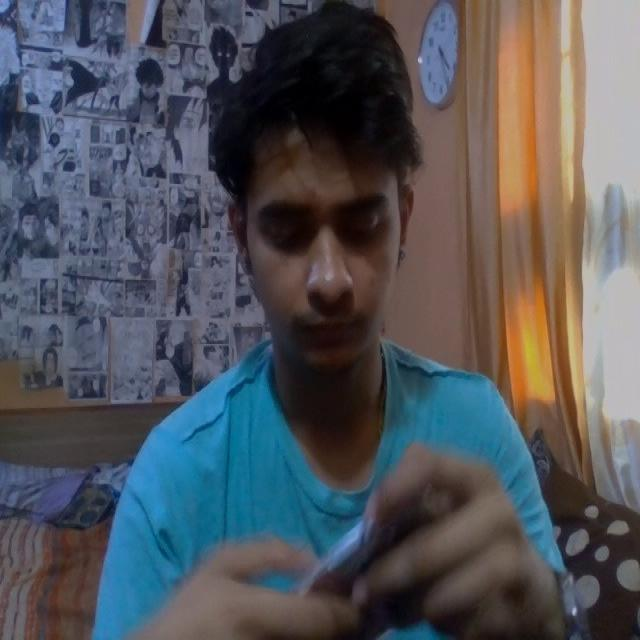using-phone: (87, 1, 594, 640)
